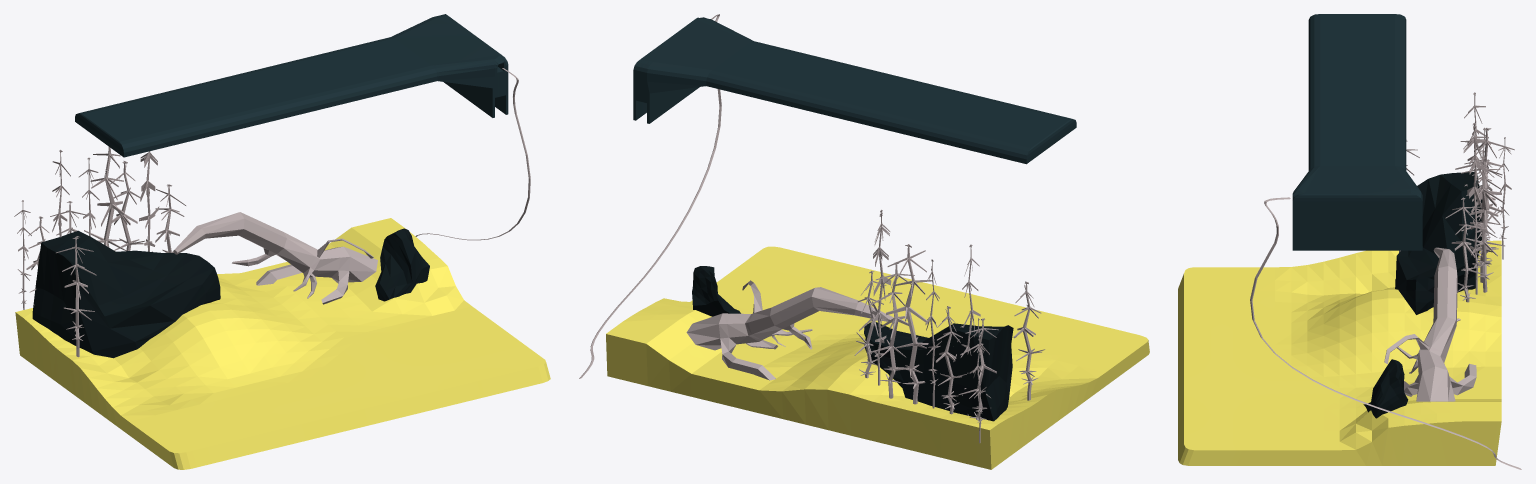
File: ADORNOS_PECERA.obj
3 views of the same model, side by side, from view 1: azimuth 30°, elevation 25°; view 2: azimuth 150°, elevation 25°; view 3: azimuth 270°, elevation 25° (orthographic). The views are drawn at different scales.
Parts seen in each view (by area): view 1: ADORNOS_PECERA; view 2: ADORNOS_PECERA; view 3: ADORNOS_PECERA.
Part boxes in pixels (bbox=[...]): ADORNOS_PECERA: bbox=[14, 14, 550, 469]; ADORNOS_PECERA: bbox=[579, 14, 1149, 469]; ADORNOS_PECERA: bbox=[1178, 14, 1521, 469].
Size of the model in its own units: 0.446 by 0.2958 by 0.3333.
1 material, 1 textured.
